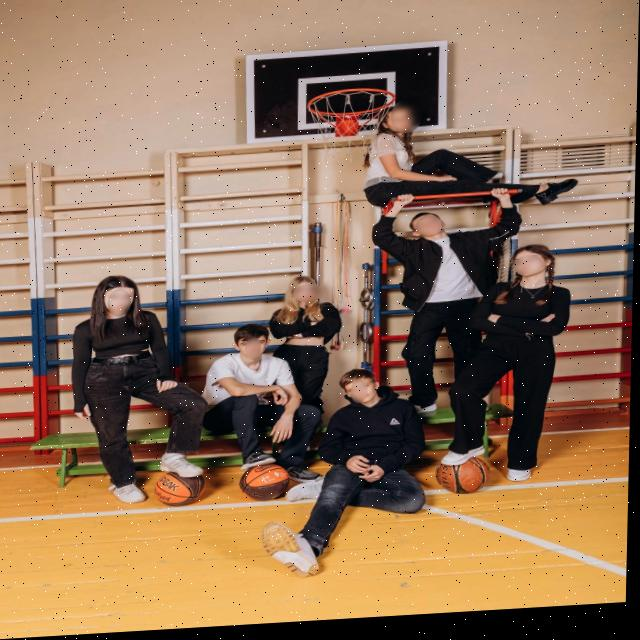Person: (254, 368, 441, 598), (440, 244, 602, 501), (63, 267, 218, 529), (362, 198, 497, 399), (191, 318, 340, 500), (352, 99, 584, 212), (265, 275, 352, 402)
